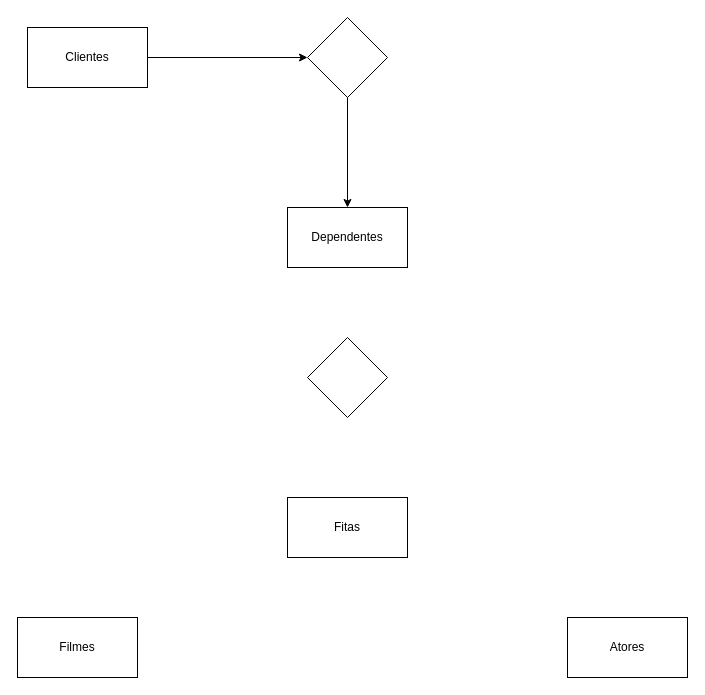
Image size: 705x695. Some labels were removed from this diagram. Here are the shapes that lost their labels. From the top down, the box of each, then its label:
(306, 16, 388, 98): POSSUI
(306, 336, 388, 418): ALUGAM
